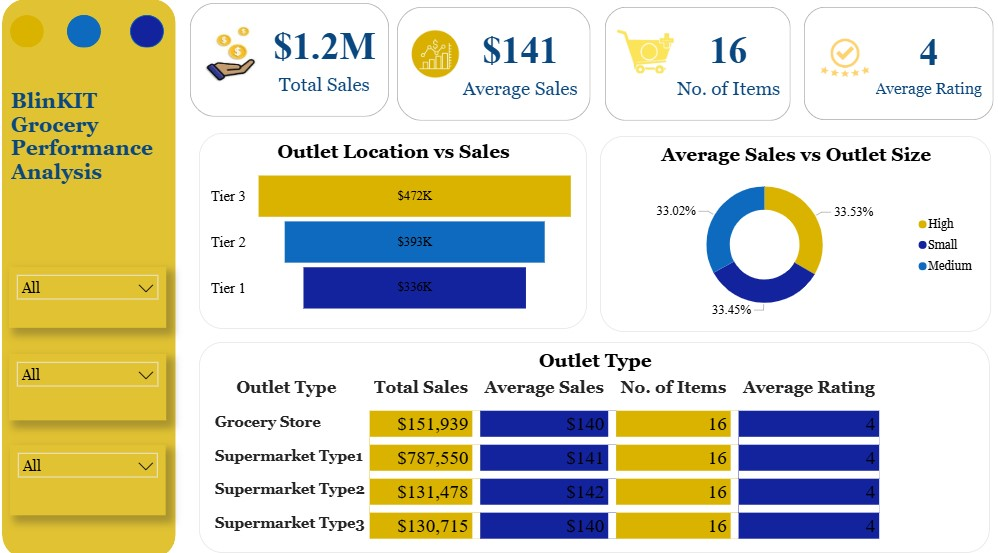

The page's visual inventory and layout, read from the dashboard file:
{"tool":"powerbi","page":{"name":"Dashboard 1","canvas":[1280,720],"ordinal":0},"visuals":[{"type":"shape","box":[7.1,5.7,220,708],"z":0,"group":"g1"},{"type":"cardVisual","fields":{"Data":["BlinkIT Grocery Data (2).Total Sales"]},"box":[240,5.7,262.9,154.3],"z":0},{"type":"cardVisual","fields":{"Data":["BlinkIT Grocery Data (2).Average Sales"]},"box":[502.9,11.4,255.7,154.3],"z":1000},{"type":"slicer","fields":{"Values":["BlinkIT Grocery Data (2).Item_Fat_Content"]},"box":[15.5,344.7,198.6,77.1],"z":1000,"group":"g1"},{"type":"cardVisual","fields":{"Data":["BlinkIT Grocery Data (2).Average Rating"]},"box":[1017.3,12,250.7,153.3],"z":2000},{"type":"shape","box":[17.1,25.7,42.9,41.4],"z":2000,"group":"g1"},{"type":"cardVisual","fields":{"Data":["BlinkIT Grocery Data (2).Number of Items"]},"box":[765.7,11.4,245.7,154.3],"z":3000},{"type":"slicer","fields":{"Values":["BlinkIT Grocery Data (2).Outlet Type"]},"box":[15.5,454.7,198.6,84.3],"z":3000,"group":"g1"},{"type":"shape","box":[168.5,25.7,42.9,41.4],"z":4000,"group":"g1"},{"type":"funnel","title":"Outlet Location vs Sales","fields":{"Category":["BlinkIT Grocery Data (2).Outlet_Location_Type"],"Y":["BlinkIT Grocery Data (2).Total Sales"]},"box":[257.3,176,490.7,248],"z":4000},{"type":"donutChart","title":"Average Sales vs Outlet Size","fields":{"Category":["BlinkIT Grocery Data (2).Outlet_Size"],"Y":["BlinkIT Grocery Data (2).Average Sales"]},"box":[764,180,494.7,248],"z":5000},{"type":"slicer","fields":{"Values":["BlinkIT Grocery Data (2).Outlet_Location_Type"]},"box":[16.9,570.4,197.1,88.6],"z":5000,"group":"g1"},{"type":"shape","box":[90,25.7,42.9,41.4],"z":6000,"group":"g1"},{"type":"pivotTable","title":"Outlet Type","fields":{"Rows":["BlinkIT Grocery Data (2).Outlet_Type"],"Values":["BlinkIT Grocery Data (2).Total Sales","BlinkIT Grocery Data (2).Average Sales","BlinkIT Grocery Data (2).Number of Items","BlinkIT Grocery Data (2).Average Rating"]},"box":[257.3,440,1001.3,266.7],"z":6000},{"type":"textbox","box":[14,114.7,200,147.1],"z":7000,"group":"g1"},{"type":"group","id":"g1","title":"Group 1","box":[7.1,5.7,220,708],"z":11001}]}

Visuals, with their boxes in screenshot pixels (x1, y1, x2, y2), scaled from the page's 1280x720 canvas onto the 998x553 screenshot:
shape: x1=6 y1=4 x2=177 y2=548
cardVisual - BlinkIT Grocery Data (2).Total Sales: x1=187 y1=4 x2=392 y2=123
cardVisual - BlinkIT Grocery Data (2).Average Sales: x1=392 y1=9 x2=591 y2=127
slicer - BlinkIT Grocery Data (2).Item_Fat_Content: x1=12 y1=265 x2=167 y2=324
cardVisual - BlinkIT Grocery Data (2).Average Rating: x1=793 y1=9 x2=989 y2=127
shape: x1=13 y1=20 x2=47 y2=52
cardVisual - BlinkIT Grocery Data (2).Number of Items: x1=597 y1=9 x2=789 y2=127
slicer - BlinkIT Grocery Data (2).Outlet Type: x1=12 y1=349 x2=167 y2=414
shape: x1=131 y1=20 x2=165 y2=52
"Outlet Location vs Sales" funnel: x1=201 y1=135 x2=583 y2=326
"Average Sales vs Outlet Size" donutChart: x1=596 y1=138 x2=981 y2=329
slicer - BlinkIT Grocery Data (2).Outlet_Location_Type: x1=13 y1=438 x2=167 y2=506
shape: x1=70 y1=20 x2=104 y2=52
"Outlet Type" pivotTable: x1=201 y1=338 x2=981 y2=543
textbox: x1=11 y1=88 x2=167 y2=201
"Group 1" group: x1=6 y1=4 x2=177 y2=548
